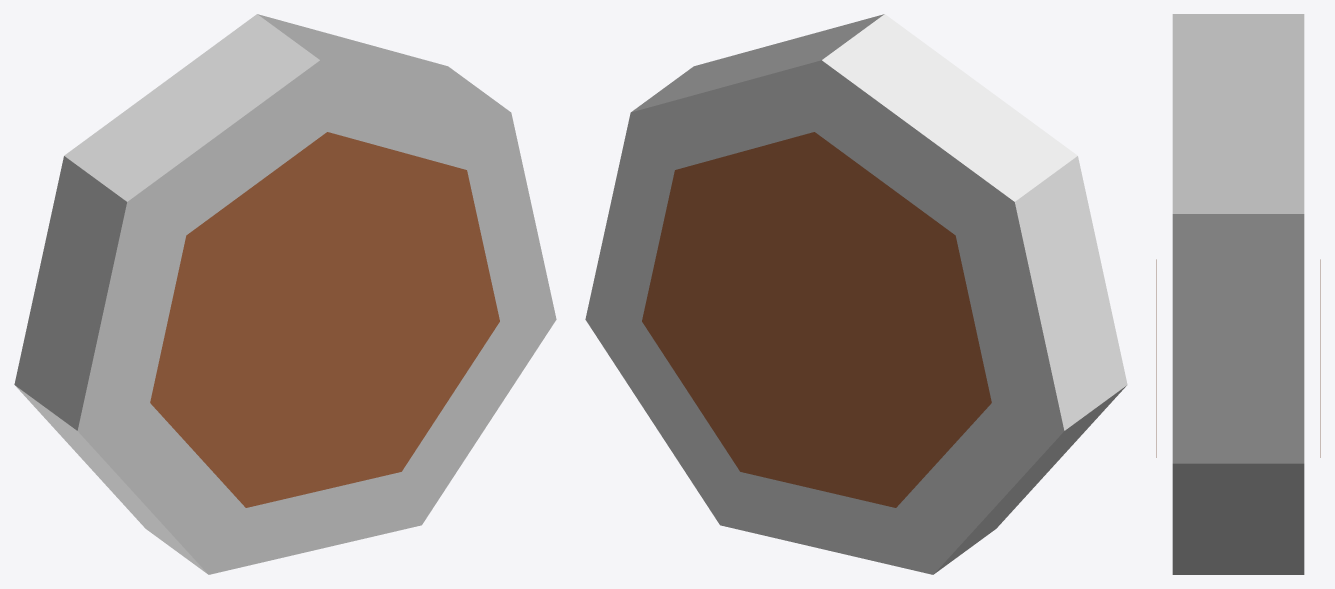
Rendered from G_BrawlerShield.FBX.
3 renders of one model, left to right at view 1: azimuth 30°, elevation 25°; view 2: azimuth 150°, elevation 25°; view 3: azimuth 270°, elevation 25°, orthographic. The views are drawn at different scales.
Parts seen in each view (by area): view 1: dun; view 2: dun; view 3: dun.
Part boxes in pixels (left/top/right/bottom): dun: left=14, top=14, right=556, bottom=574; dun: left=585, top=14, right=1127, bottom=574; dun: left=1156, top=14, right=1320, bottom=574.
Bounding box in the file's own units: 38.11 × 37.24 × 10.87.
